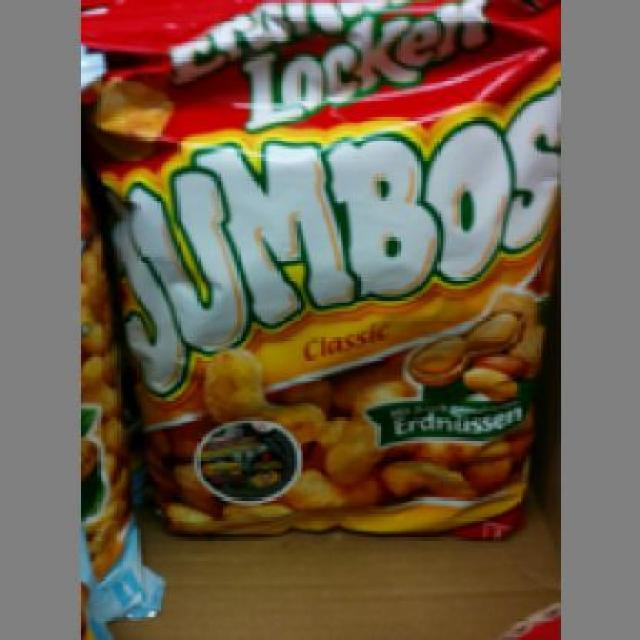Chips: (85, 0, 558, 537)
